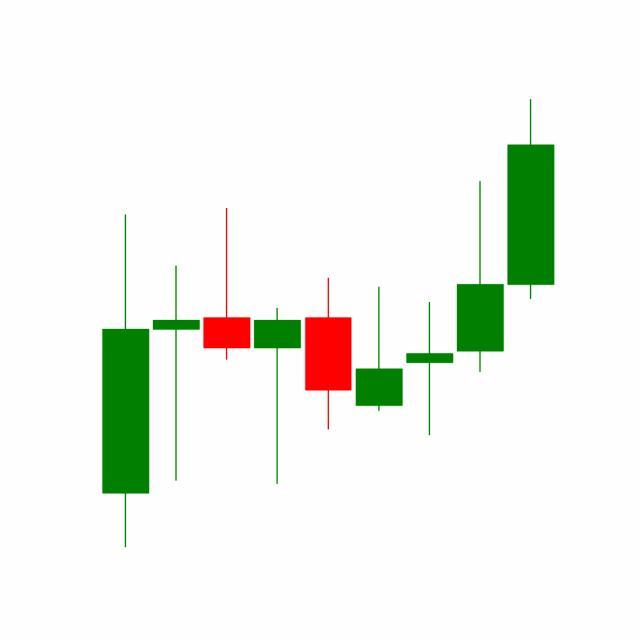Hikkake Pattern: (252, 178, 506, 488)
